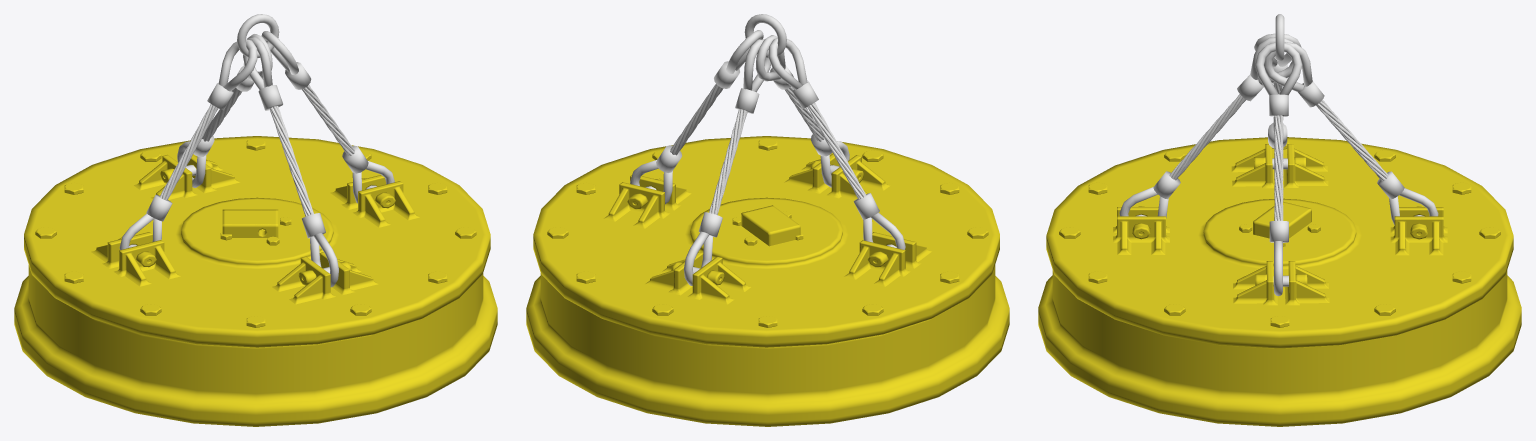
The model's file is magnet.fbx.
3 views of the same model, side by side, from view 1: azimuth 30°, elevation 25°; view 2: azimuth 150°, elevation 25°; view 3: azimuth 270°, elevation 25° (orthographic).
Parts seen in each view (by area): view 1: Torus.001; view 2: Torus.001; view 3: Torus.001.
Part boxes in pixels (x1,y1,x2,y2): Torus.001: (14,14,497,426); Torus.001: (526,14,1009,426); Torus.001: (1038,14,1521,426).
Size of the model in its own units: 151 by 107 by 151.
